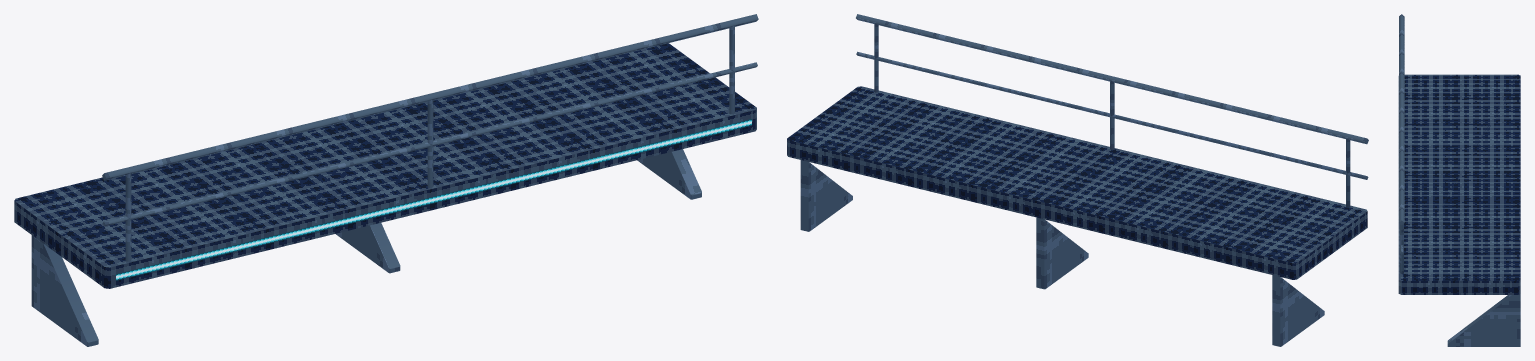
The model's file is cystreet.walkway.glb.
The picture shows the model from 3 angles, left to right: view 1: azimuth 30°, elevation 25°; view 2: azimuth 150°, elevation 25°; view 3: azimuth 270°, elevation 25°; orthographic projection. The views are drawn at different scales.
Parts seen in each view (by area): view 1: kit_deck, kit_card_neon; view 2: kit_deck; view 3: kit_deck.
Part boxes in pixels (x1=…): kit_deck: x1=14, y1=14, x2=758, y2=346; kit_card_neon: x1=116, y1=119, x2=751, y2=280; kit_deck: x1=787, y1=14, x2=1368, y2=346; kit_deck: x1=1398, y1=14, x2=1520, y2=346.
Size of the model in its own units: 8 by 2.4 by 2.03.
4 materials, 4 textured.
